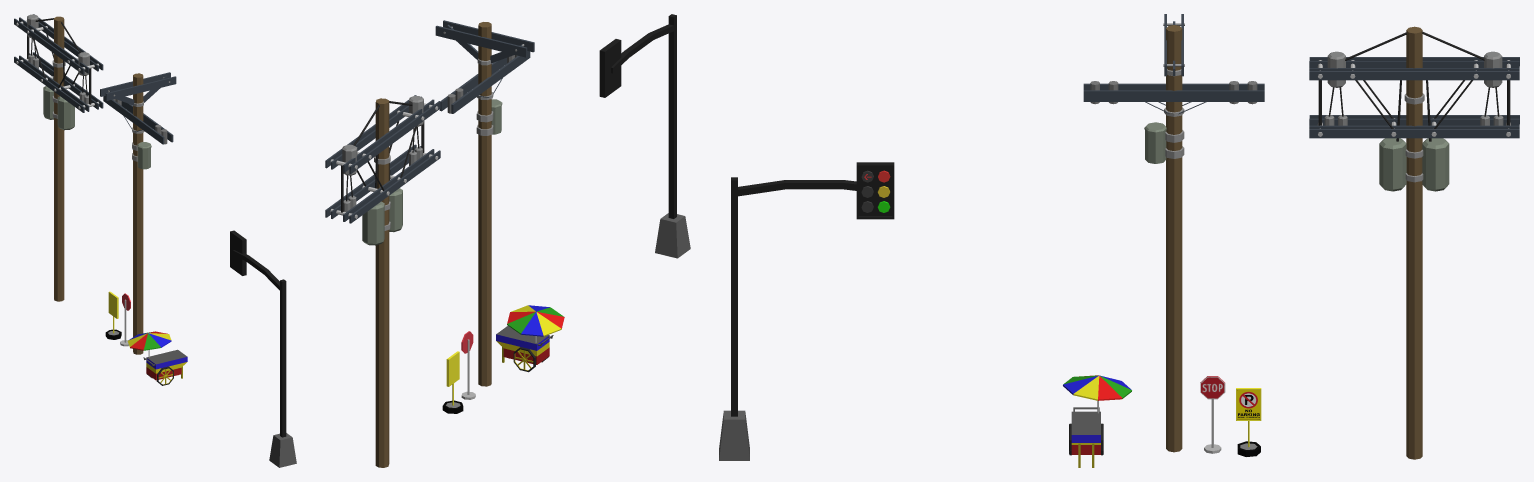
Rendered from Poste_Environment.glb.
The picture shows the model from 3 angles, left to right: view 1: azimuth 30°, elevation 25°; view 2: azimuth 150°, elevation 25°; view 3: azimuth 270°, elevation 25°; orthographic projection. The views are drawn at different scales.
Visible parts, largest first — view 1: ElectricPole_2, ElectricPole_1, Stoplight, Vendor_1, NoParking; view 2: ElectricPole_2, ElectricPole_1, Stoplight, Vendor_1, NoParking, StopSign; view 3: ElectricPole_2, ElectricPole_1, Stoplight, Vendor_1, NoParking.
Part boxes in pixels (x1,y1,x2,y2): ElectricPole_2: (14,14,103,301); ElectricPole_1: (100,72,176,354); Stoplight: (230,230,296,467); Vendor_1: (127,331,187,385); NoParking: (105,291,121,339); ElectricPole_2: (325,95,440,467); ElectricPole_1: (435,20,534,386); Stoplight: (599,14,690,258); Vendor_1: (496,305,564,372); NoParking: (442,351,463,413); StopSign: (461,331,475,399); ElectricPole_2: (1309,26,1519,459); ElectricPole_1: (1083,14,1264,452); Stoplight: (719,162,894,460); Vendor_1: (1063,375,1131,467); NoParking: (1236,388,1261,456).
Bounding box in the file's own units: 4.52 × 17.53 × 29.6.
64 materials, 2 textured.
